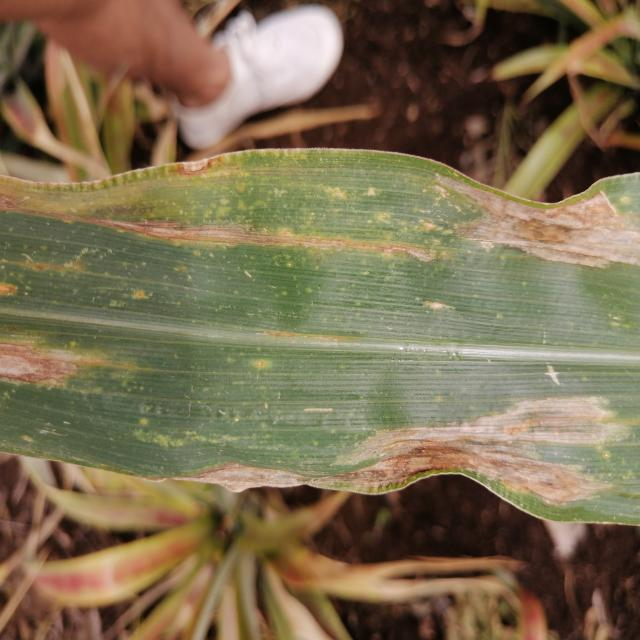Corn_Leaf_Blight: (20, 142, 640, 542)
